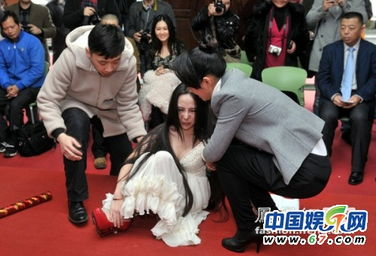10+: (1, 1, 376, 248)
down: (89, 86, 216, 237)
